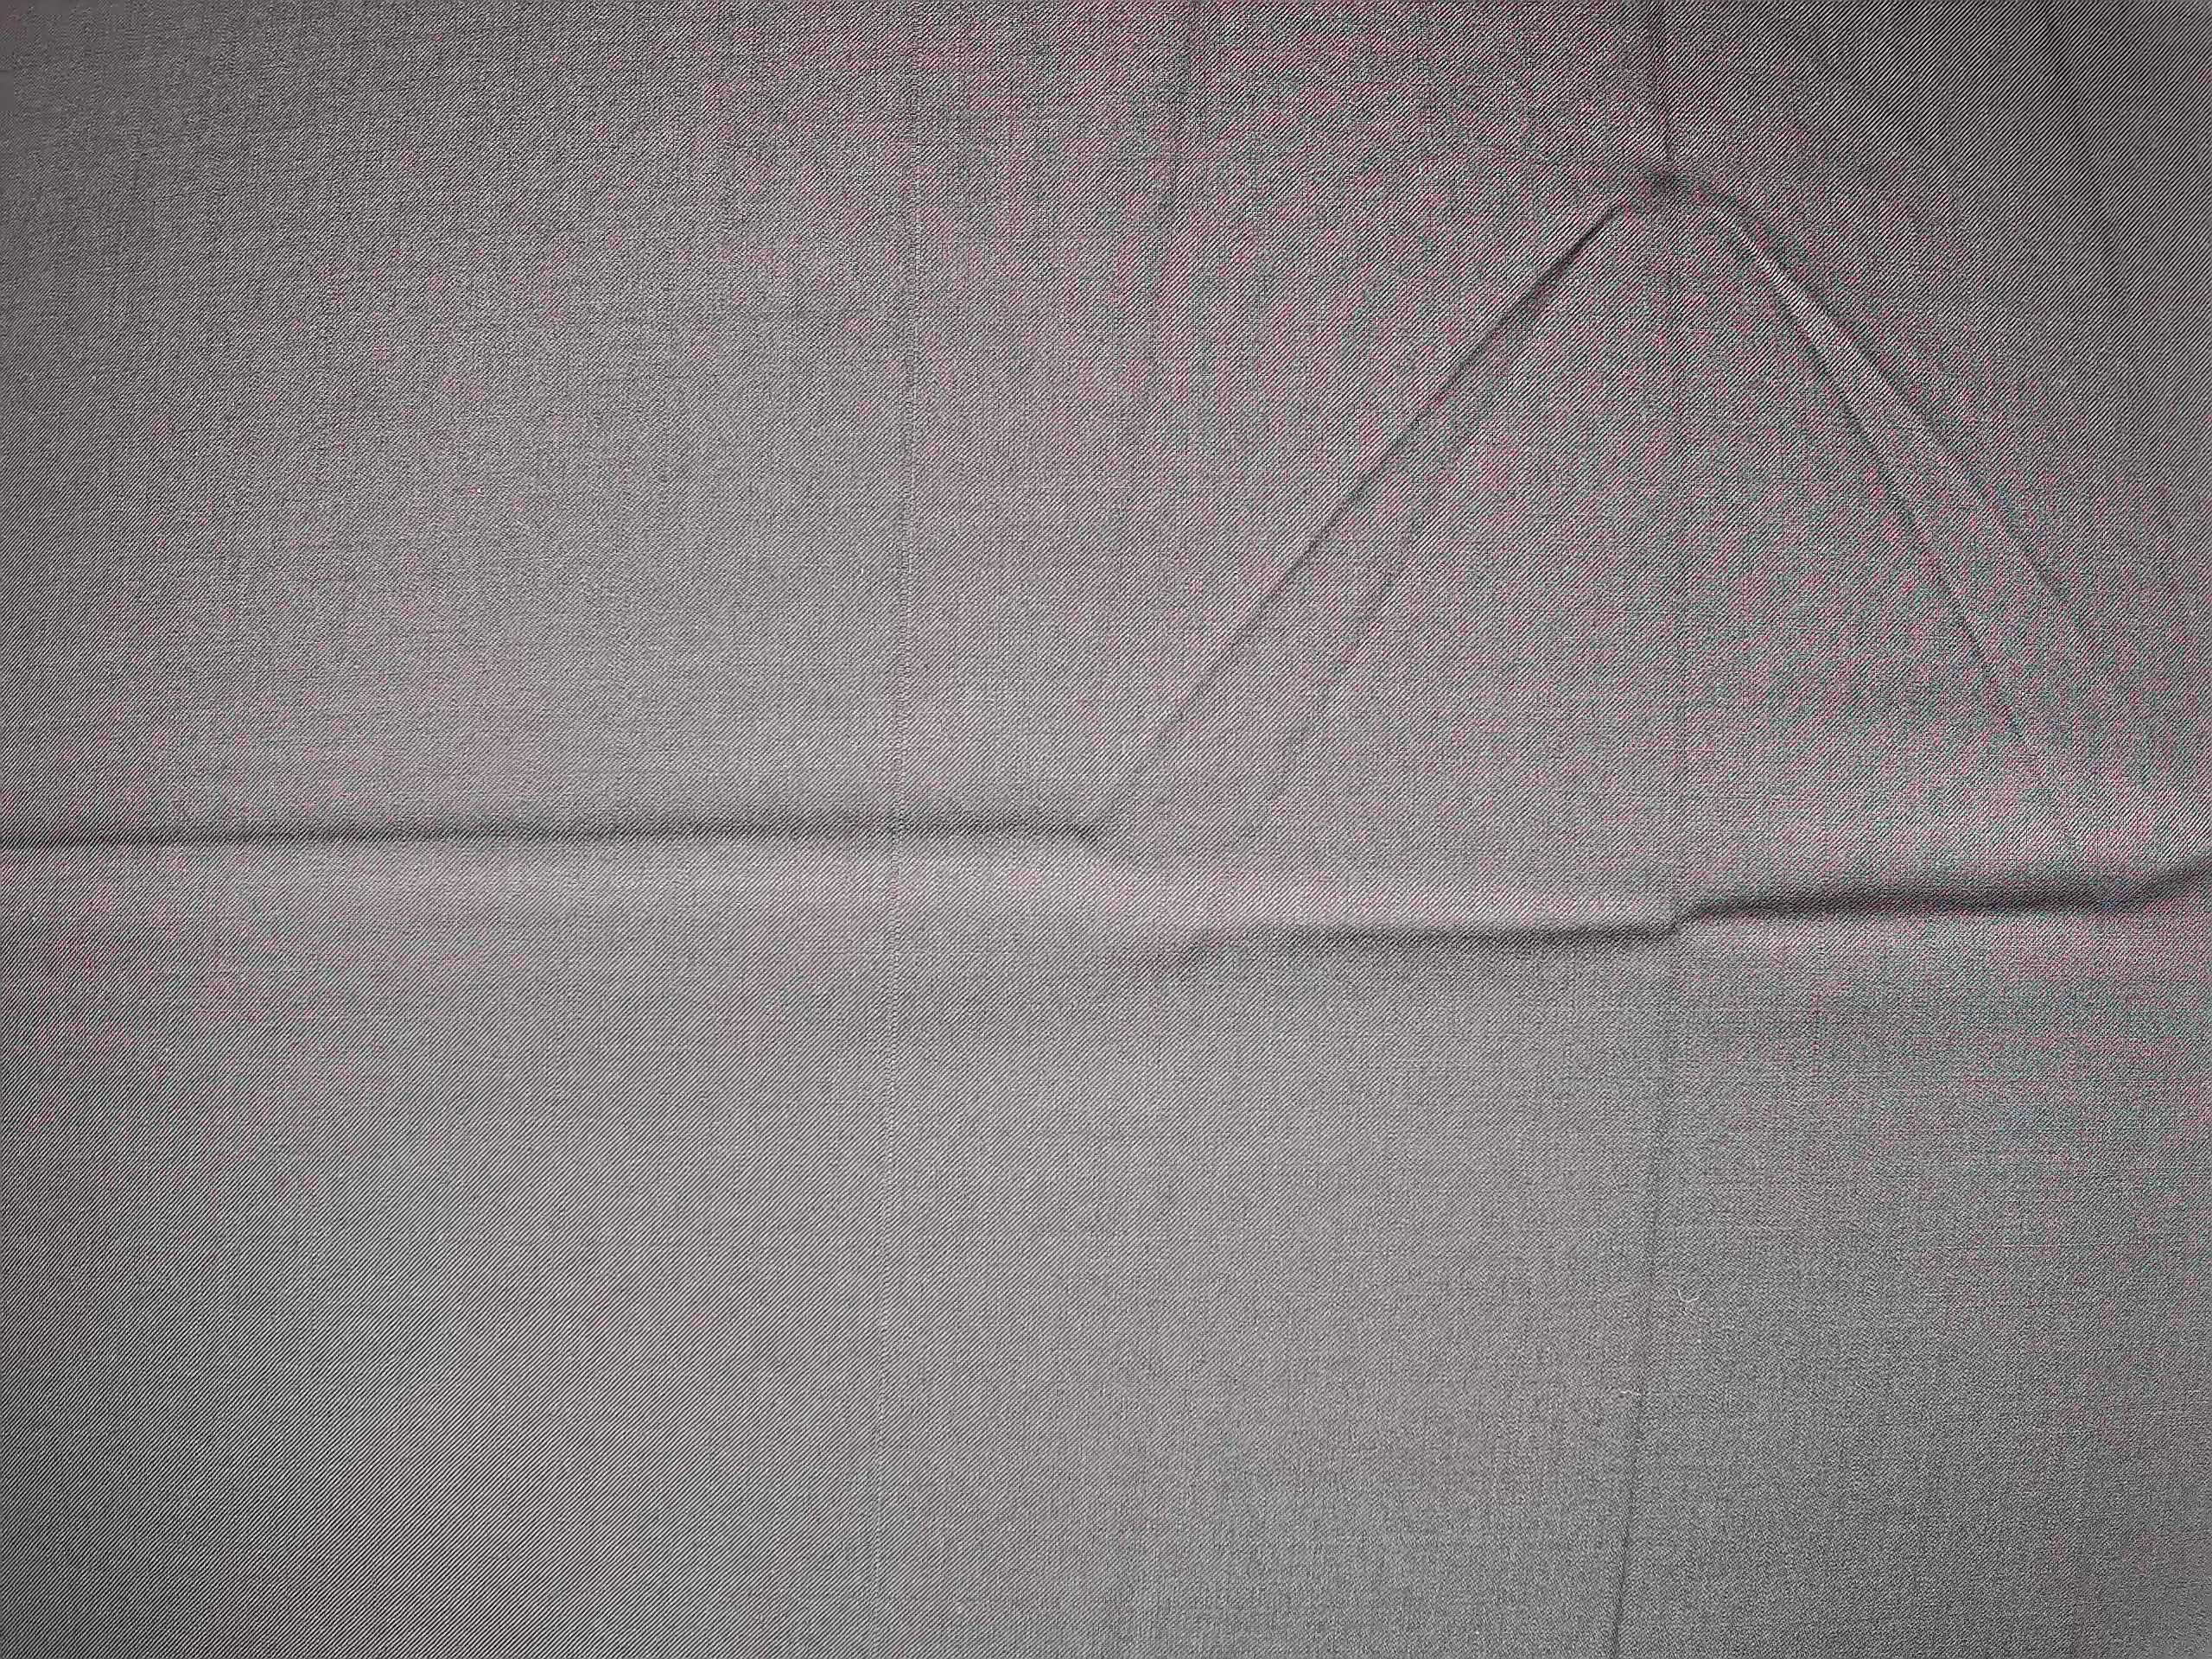hanging-warp: (873, 9, 928, 1650)
lacking-warp: (1599, 7, 1702, 1650)
